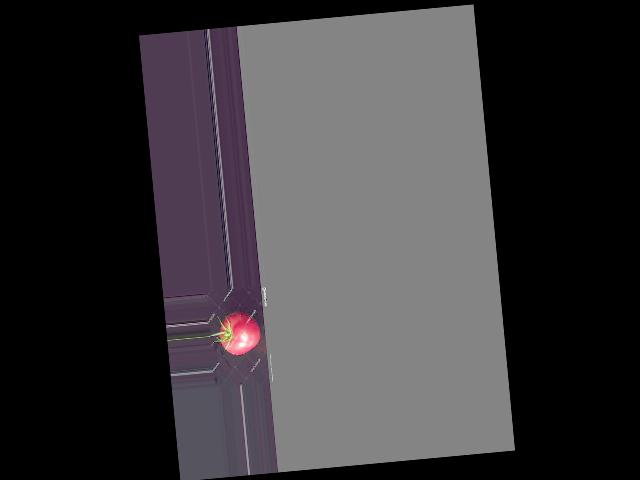tomato: (218, 310, 262, 356)
